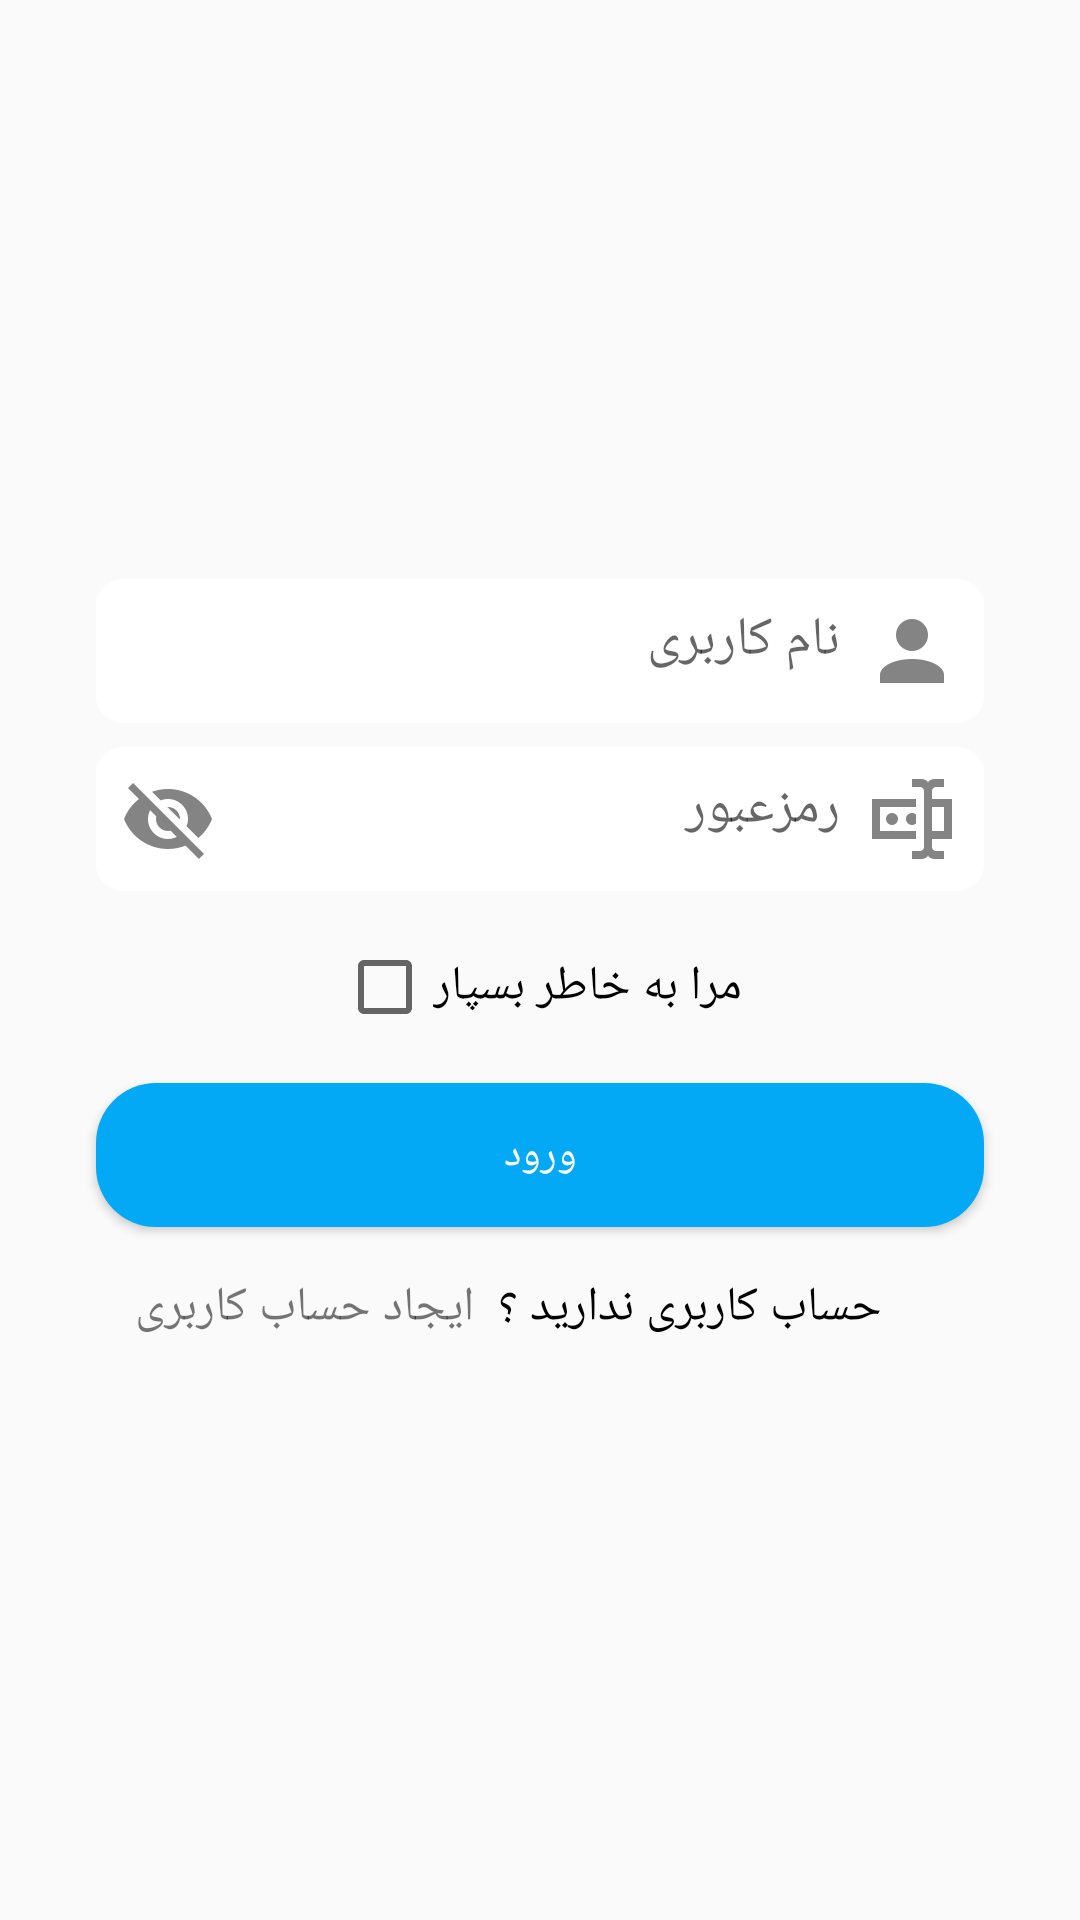

Locate icon controls on the screen. Image size 1080*1920, boxes as [left=x1, top=y1, right=x2, bottom=y2].
eye off: [left=124, top=783, right=212, bottom=859]
